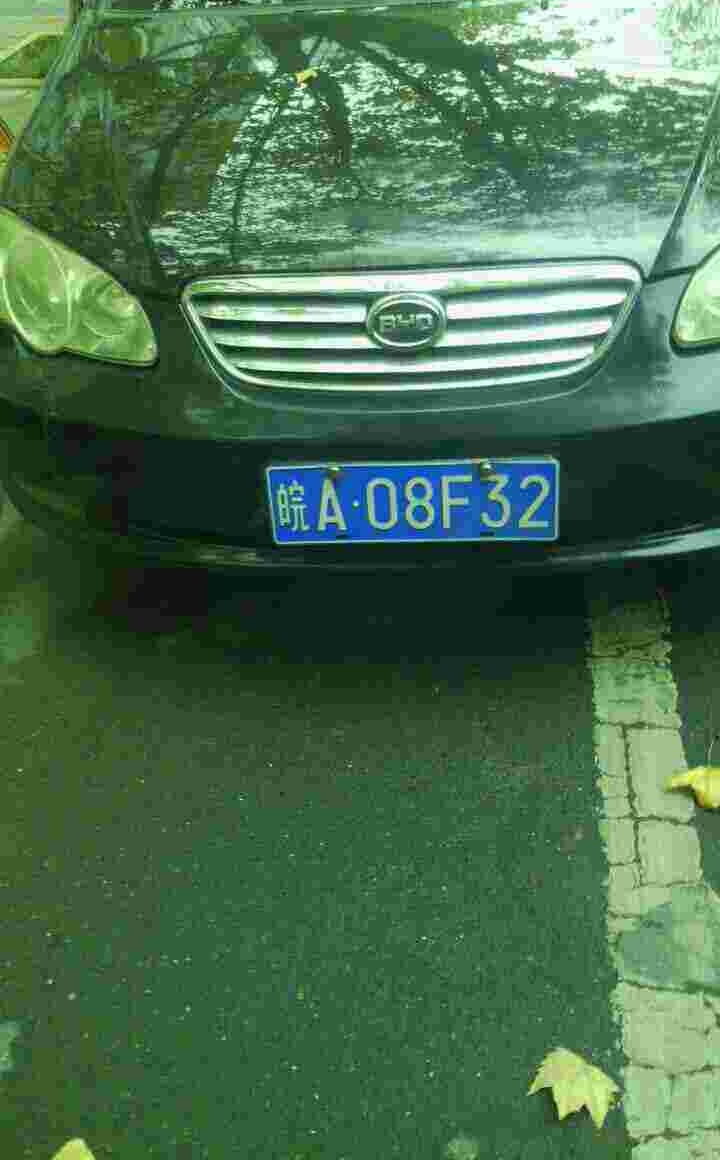license_plate: (258, 467, 553, 546)
